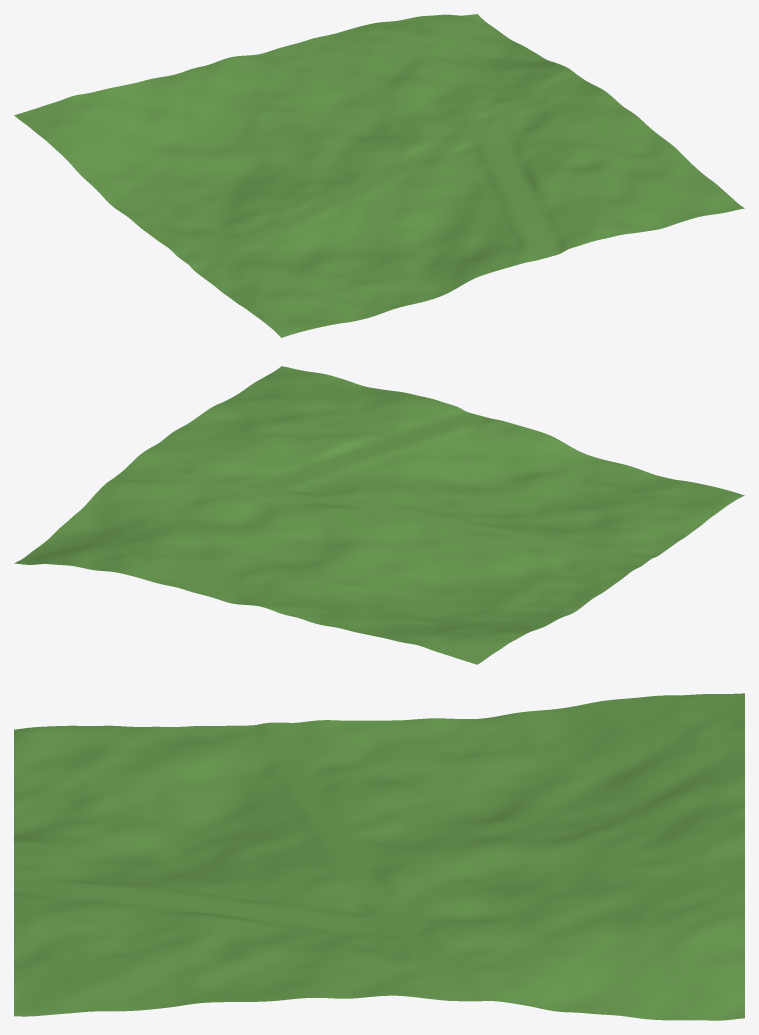
File: SM_Terrain_02_04.fbx
3 views of the same model, one above another, from view 1: azimuth 30°, elevation 25°; view 2: azimuth 150°, elevation 25°; view 3: azimuth 270°, elevation 25° (orthographic). The views are drawn at different scales.
Parts seen in each view (by area): view 1: SM_Terrain_02_04; view 2: SM_Terrain_02_04; view 3: SM_Terrain_02_04.
Part boxes in pixels (x1,y1,x2,y2): SM_Terrain_02_04: [14, 14, 744, 337]; SM_Terrain_02_04: [14, 366, 744, 664]; SM_Terrain_02_04: [14, 693, 744, 1020].
Size of the model in its own units: 384 by 26.82 by 384.
